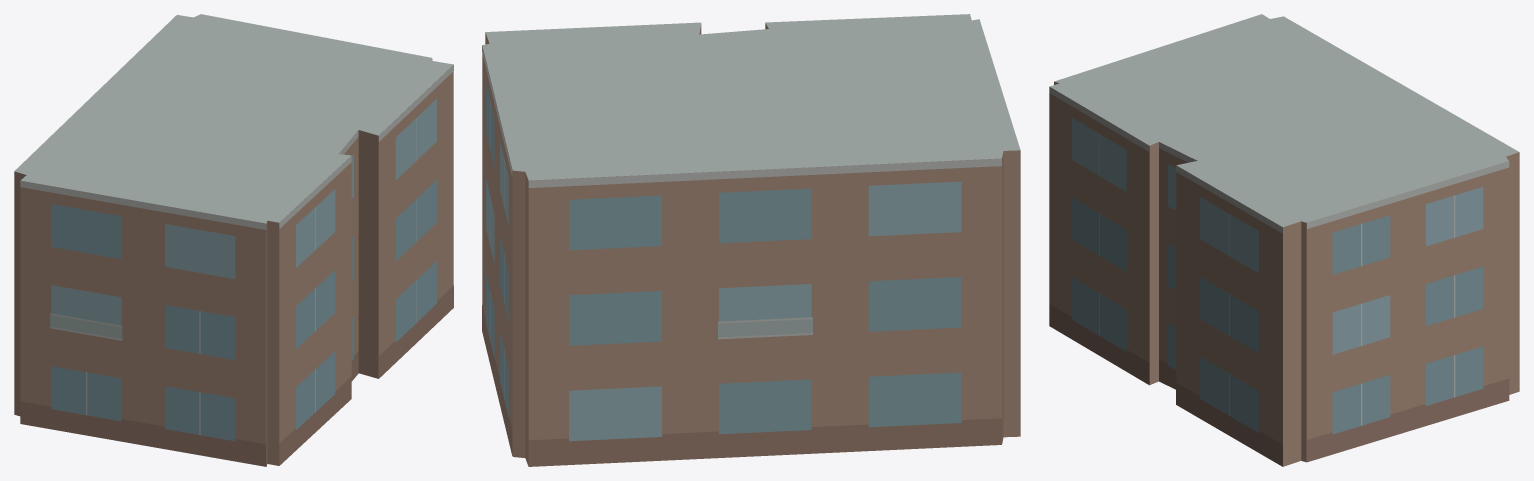
File: survey-upis-33038692.glb
3 views of the same model, side by side, from view 1: azimuth 30°, elevation 25°; view 2: azimuth 150°, elevation 25°; view 3: azimuth 270°, elevation 25° (orthographic). The views are drawn at different scales.
Visible parts, largest first — view 1: survey-upis-33038692.tmp; view 2: survey-upis-33038692.tmp; view 3: survey-upis-33038692.tmp.
Part boxes in pixels (bbox=[...]): survey-upis-33038692.tmp: bbox=[14, 14, 453, 466]; survey-upis-33038692.tmp: bbox=[482, 14, 1020, 466]; survey-upis-33038692.tmp: bbox=[1049, 14, 1519, 466].
Size of the model in its own units: 17.49 by 9.15 by 16.28.
